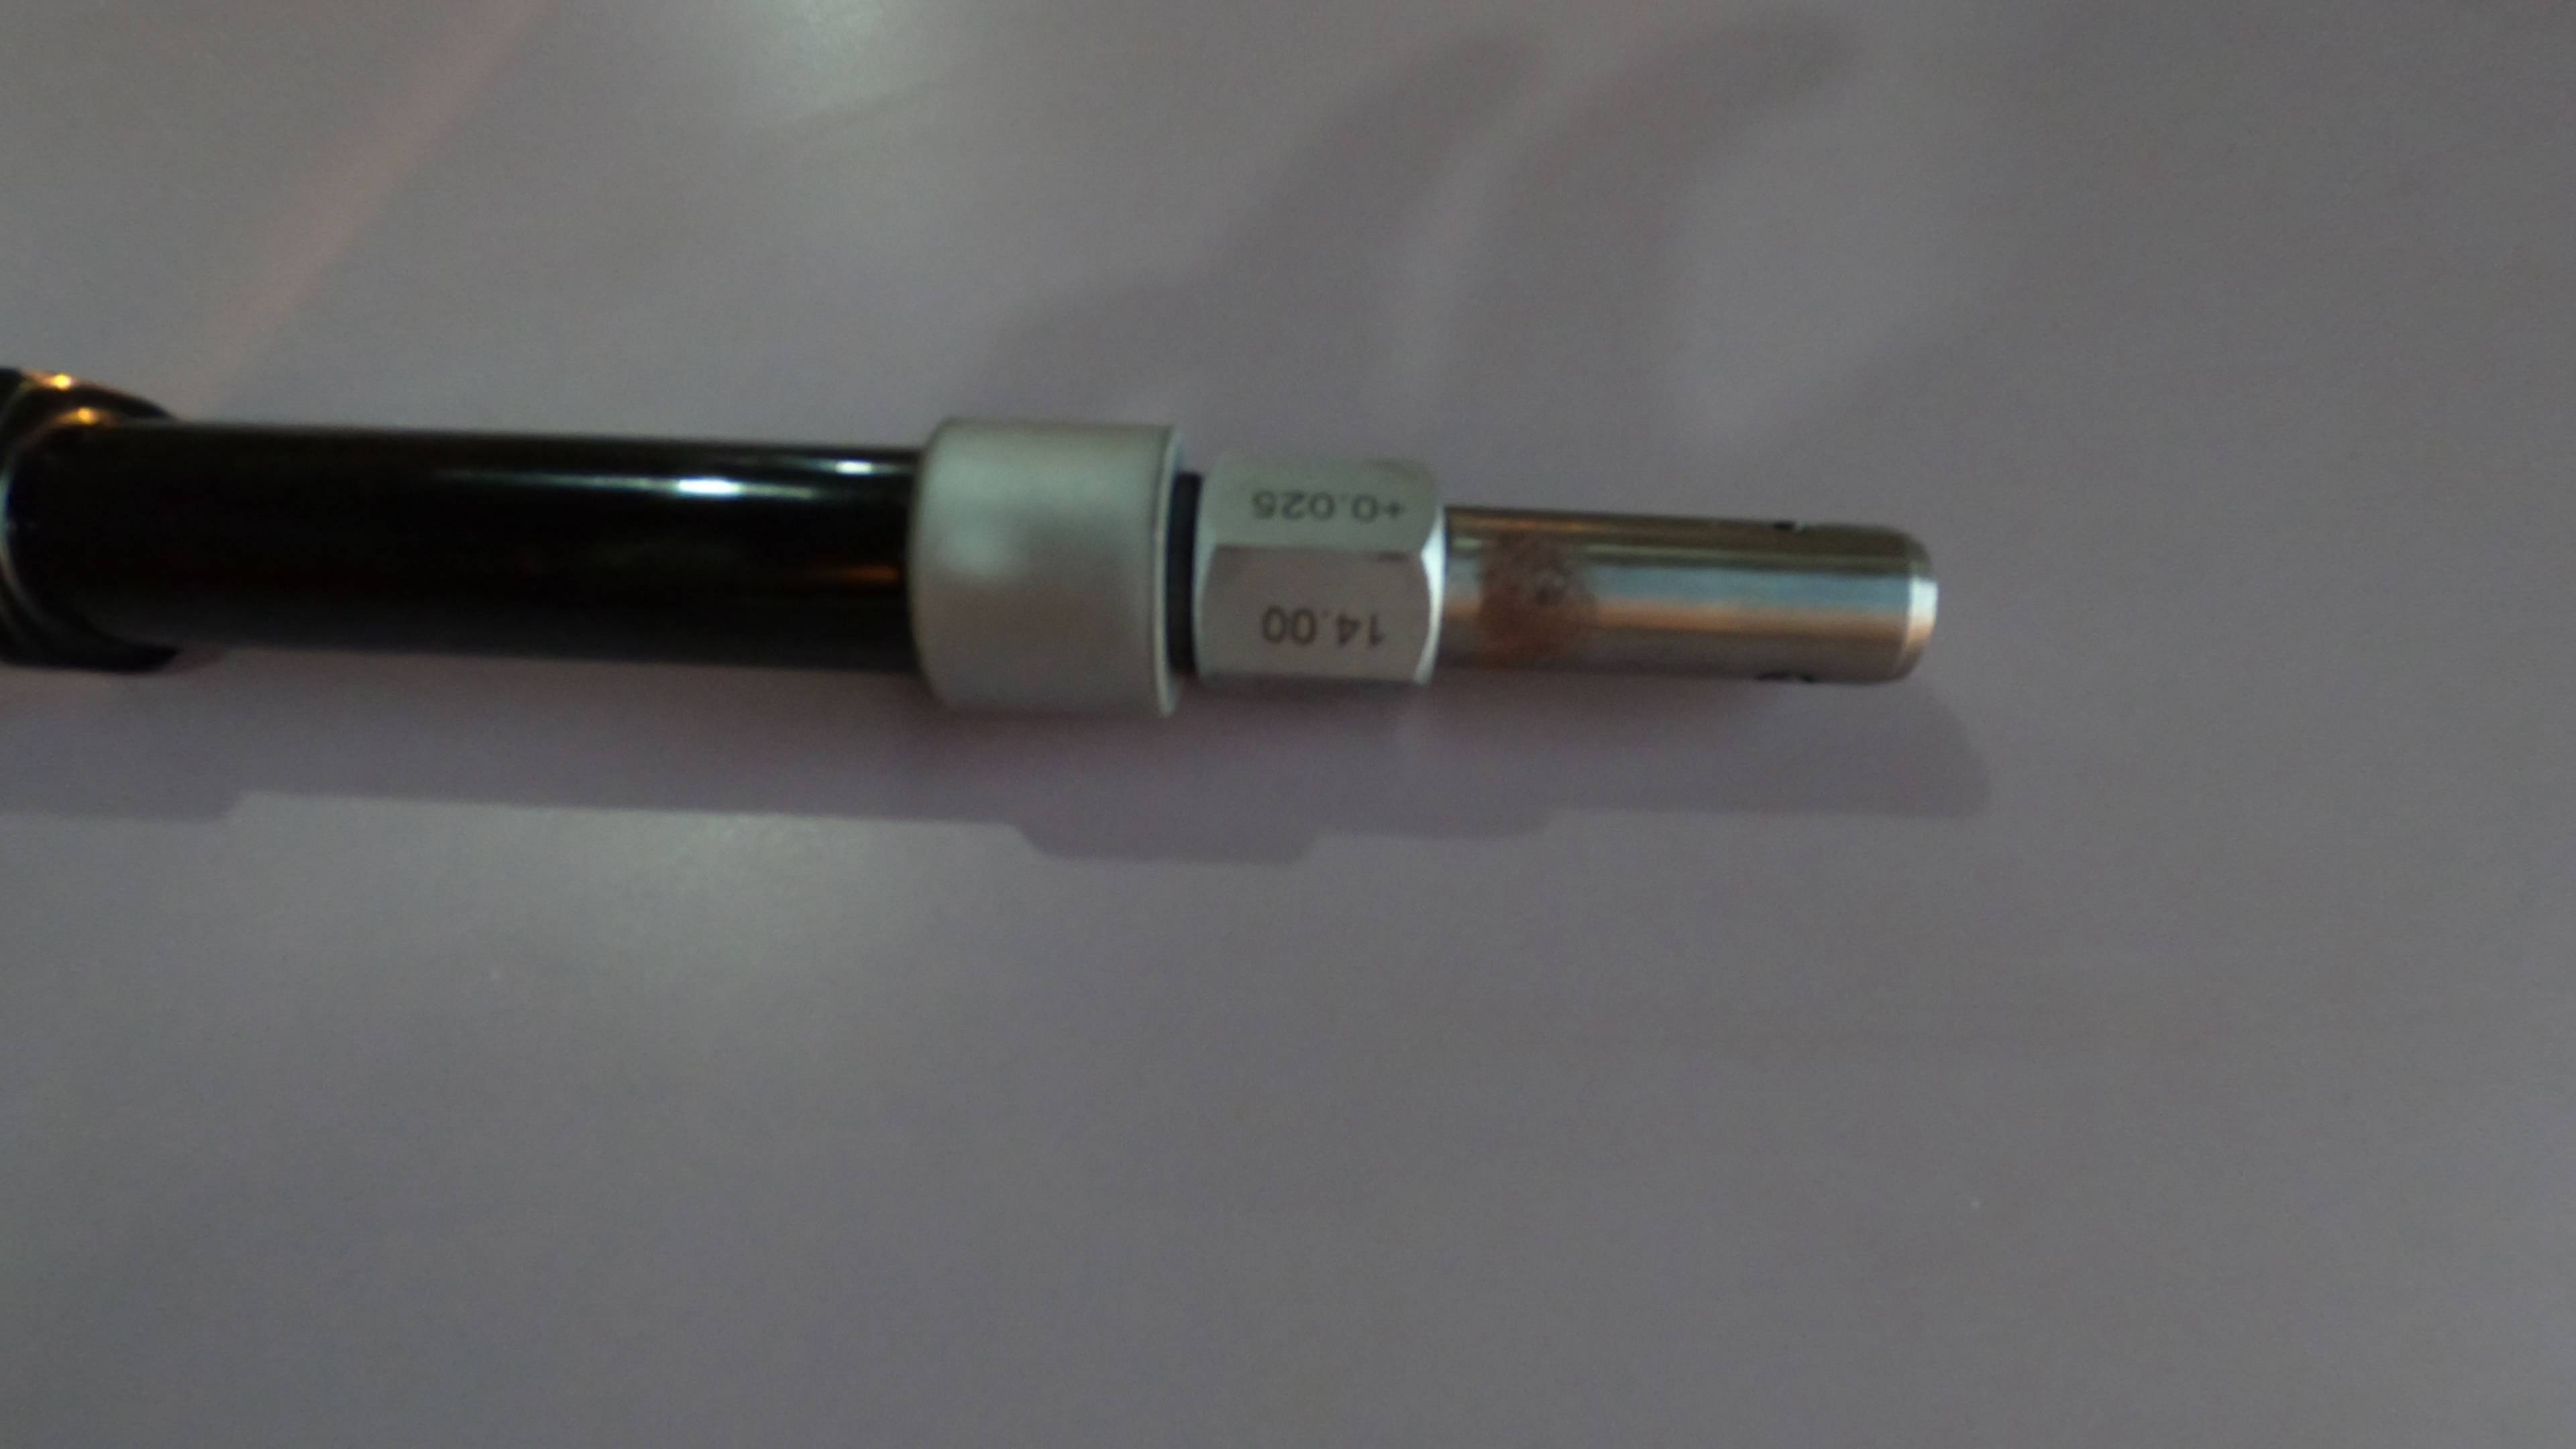air_gauge: (7, 357, 1944, 736)
